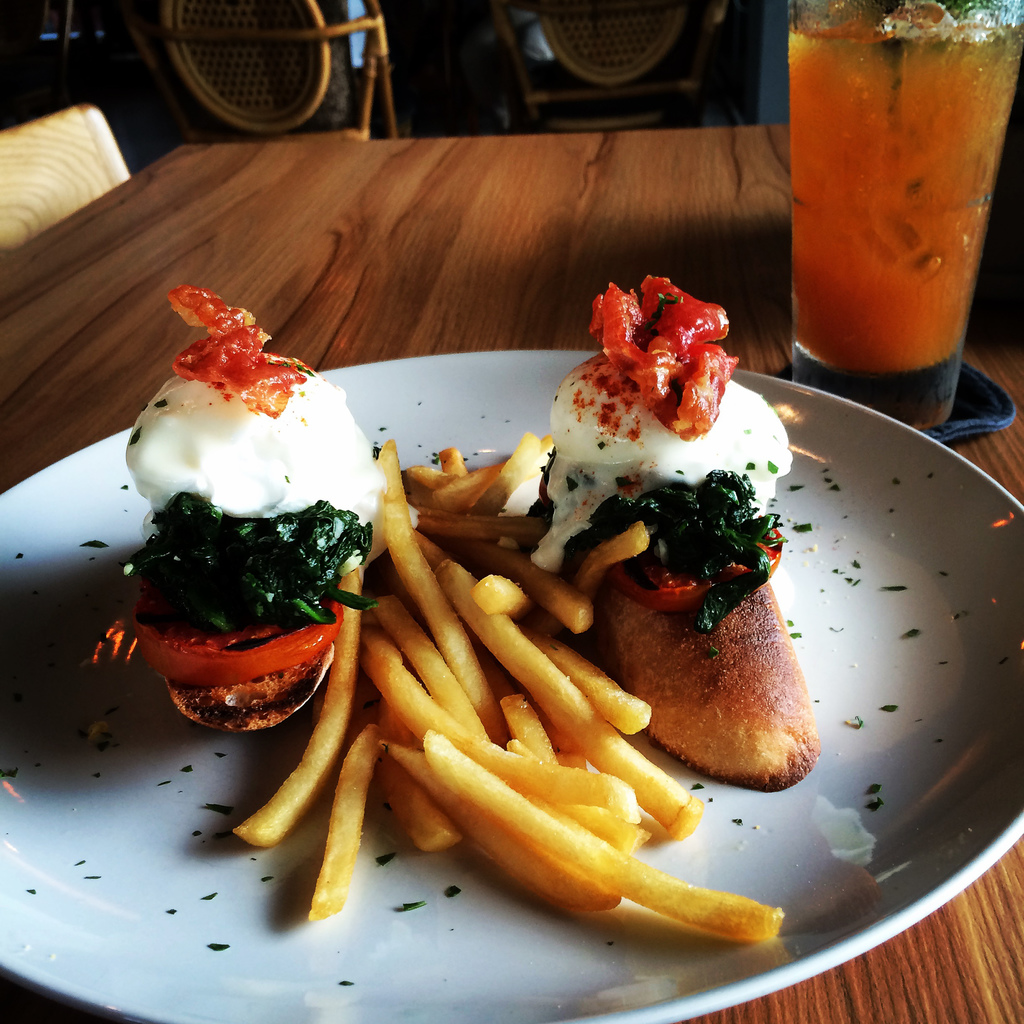French fries: (220, 428, 784, 951)
